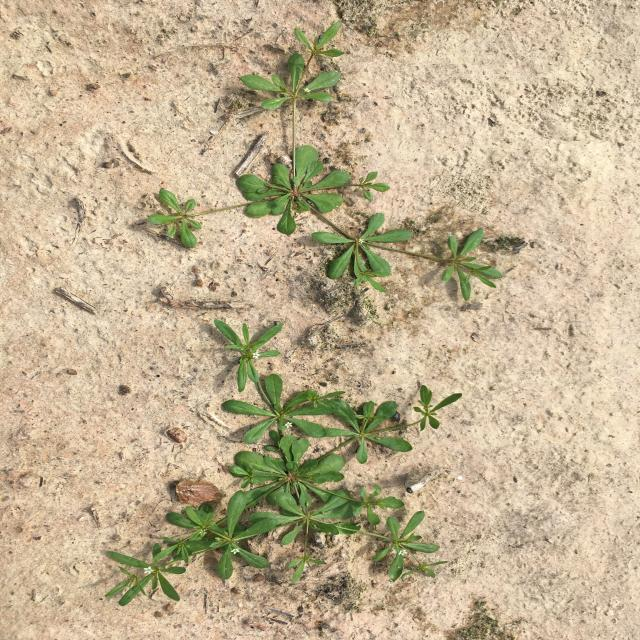Carpetweed: (105, 320, 463, 607), (147, 20, 503, 301)
